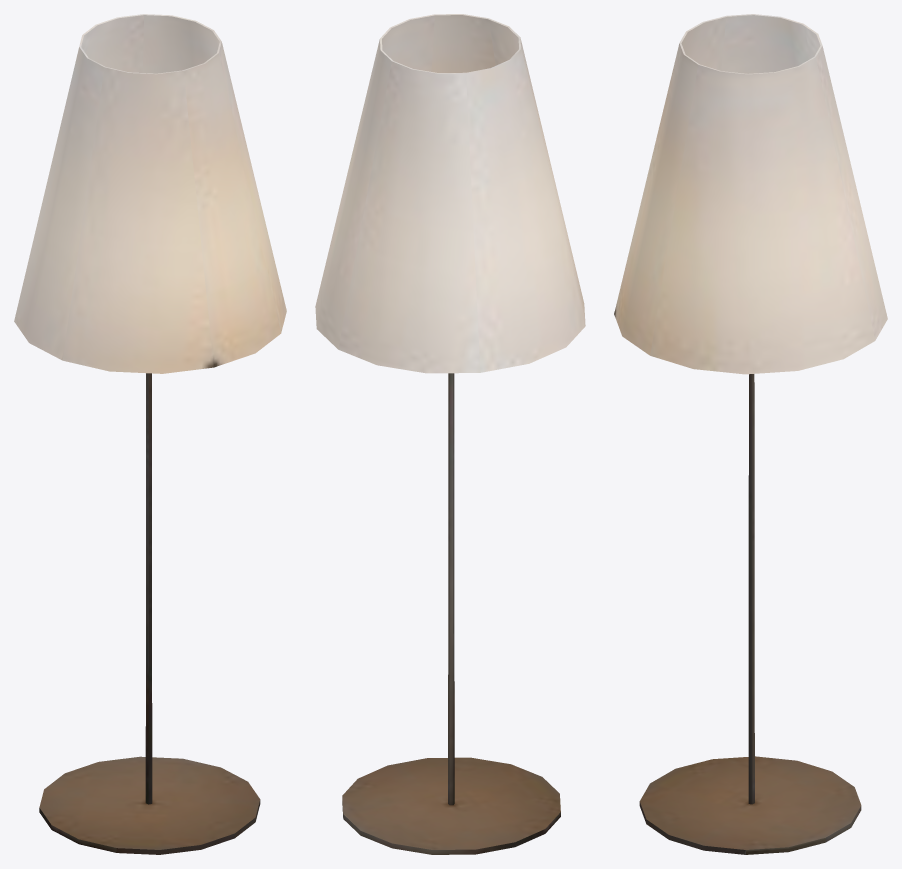
Rendered from lamp_1.glb.
The picture shows the model from 3 angles, left to right: view 1: azimuth 30°, elevation 25°; view 2: azimuth 150°, elevation 25°; view 3: azimuth 270°, elevation 25°; orthographic projection.
Parts seen in each view (by area): view 1: lamp1; view 2: lamp1; view 3: lamp1.
Boxes of the visible parts, x1=… form: lamp1: x1=14, y1=14, x2=286, y2=854; lamp1: x1=315, y1=14, x2=585, y2=854; lamp1: x1=614, y1=14, x2=887, y2=854.
Size of what is drawn, in the model's own units: 0.6156 by 1.9 by 0.6156.
Materials: 1 (1 with a texture image).
